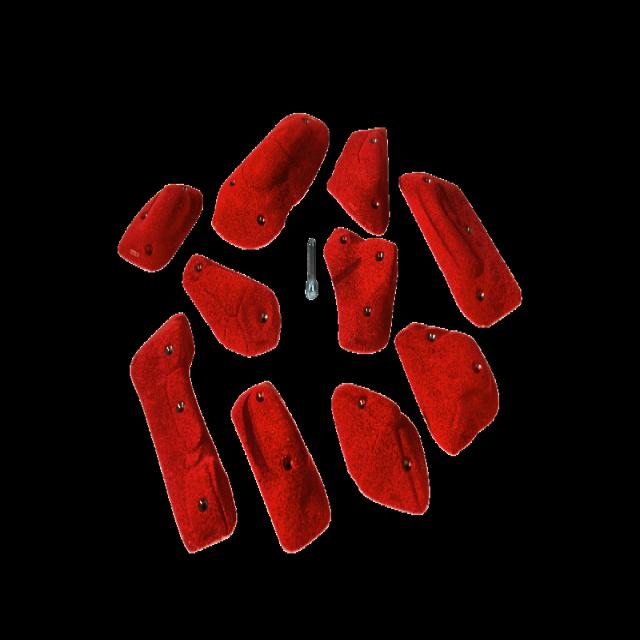Hold: (126, 311, 239, 564), (401, 159, 530, 331), (232, 377, 330, 552), (216, 105, 327, 243), (397, 321, 499, 458), (330, 383, 432, 519), (175, 257, 289, 357), (325, 226, 394, 360), (116, 183, 201, 274), (333, 120, 398, 233)
